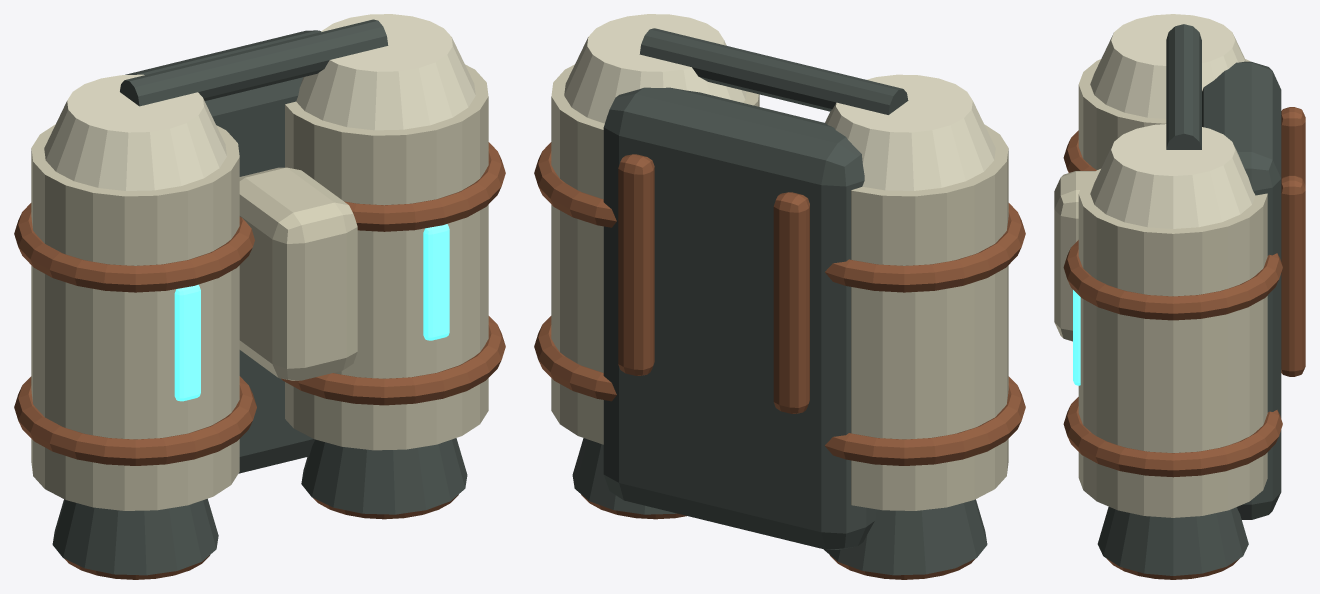
File: Jetpack_Pickup.glb
The picture shows the model from 3 angles, left to right: view 1: azimuth 30°, elevation 25°; view 2: azimuth 150°, elevation 25°; view 3: azimuth 270°, elevation 25°; orthographic projection. The views are drawn at different scales.
Parts seen in each view (by area): view 1: Enamel tank, Enamel tank.001, Control housing, Tank shoulder, Tank shoulder.001, Back plate, Exhaust, Exhaust.001, Crossfeed, Tank clamp, Tank clamp.001, Tank clamp.002 (+5 smaller); view 2: Back plate, Enamel tank, Enamel tank.001, Tank shoulder, Crossfeed, Tank shoulder.001, Harness mount.001, Harness mount, Exhaust, Tank clamp.001, Tank clamp, Tank clamp.003 (+3 smaller); view 3: Enamel tank.001, Tank shoulder.001, Back plate, Tank shoulder, Exhaust.001, Tank clamp.003, Tank clamp.002, Harness mount.001, Crossfeed, Enamel tank, Control housing, Harness mount (+3 smaller).
Boxes of the visible parts, box(x1,y1,x2,y2) form: Enamel tank: box(31, 124, 239, 510); Enamel tank.001: box(285, 64, 488, 450); Control housing: box(239, 167, 357, 380); Tank shoulder: box(44, 74, 226, 190); Tank shoulder.001: box(296, 14, 475, 130); Back plate: box(125, 30, 321, 473); Exhaust: box(52, 498, 218, 575); Exhaust.001: box(301, 438, 467, 514); Crossfeed: box(120, 19, 388, 106); Tank clamp: box(14, 376, 256, 465); Tank clamp.001: box(14, 203, 254, 292); Tank clamp.002: box(281, 316, 505, 405); Back plate: box(603, 87, 876, 549); Enamel tank: box(851, 124, 1008, 510); Enamel tank.001: box(551, 64, 759, 444); Tank shoulder: box(825, 74, 995, 190); Crossfeed: box(639, 28, 908, 114); Tank shoulder.001: box(564, 14, 746, 123); Harness mount.001: box(618, 154, 654, 375); Harness mount: box(773, 192, 809, 413); Exhaust: box(824, 499, 987, 575); Tank clamp.001: box(825, 203, 1025, 292); Tank clamp: box(825, 376, 1025, 465); Tank clamp.003: box(534, 142, 616, 227); Enamel tank.001: box(1078, 169, 1267, 517); Tank shoulder.001: box(1090, 124, 1255, 228); Back plate: box(1202, 61, 1281, 519); Tank shoulder: box(1090, 14, 1246, 118); Exhaust.001: box(1097, 507, 1248, 575); Tank clamp.003: box(1063, 240, 1282, 320); Tank clamp.002: box(1063, 397, 1282, 477); Harness mount.001: box(1281, 175, 1305, 376); Crossfeed: box(1166, 24, 1201, 149); Enamel tank: box(1078, 59, 1250, 169); Control housing: box(1054, 171, 1095, 341); Harness mount: box(1281, 107, 1305, 185).
Bounding box in the file's own units: 0.886 × 0.859 × 0.465.
